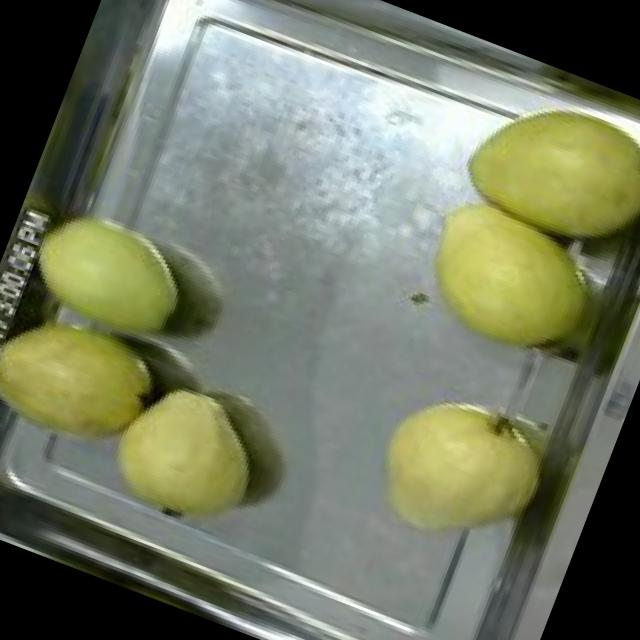Fruit: (392, 154, 638, 390), (345, 362, 571, 578), (437, 55, 640, 286), (81, 356, 287, 554), (0, 177, 212, 366), (0, 276, 180, 479)
